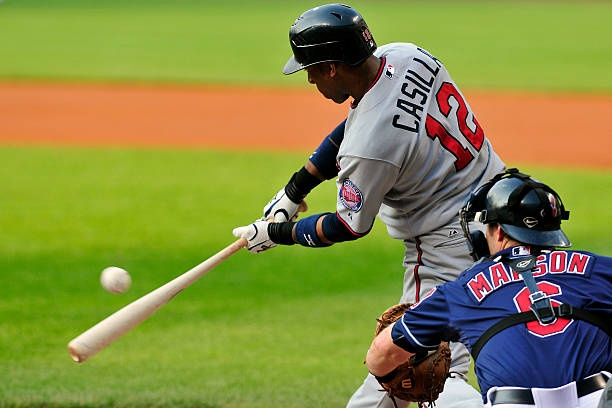bita: (68, 232, 248, 358)
